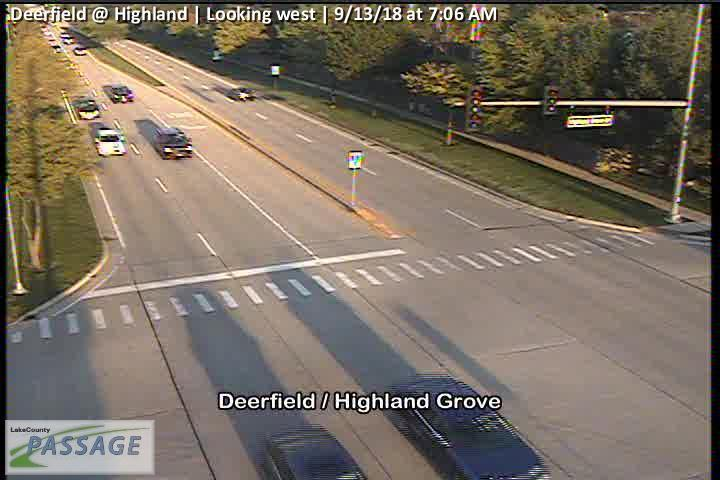Sedan: (390, 377, 550, 480), (264, 420, 373, 480), (153, 127, 193, 160), (93, 128, 125, 155), (76, 96, 100, 120), (108, 84, 134, 104), (228, 87, 257, 102), (72, 46, 86, 55)
